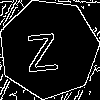Z: (23, 24, 59, 72)
